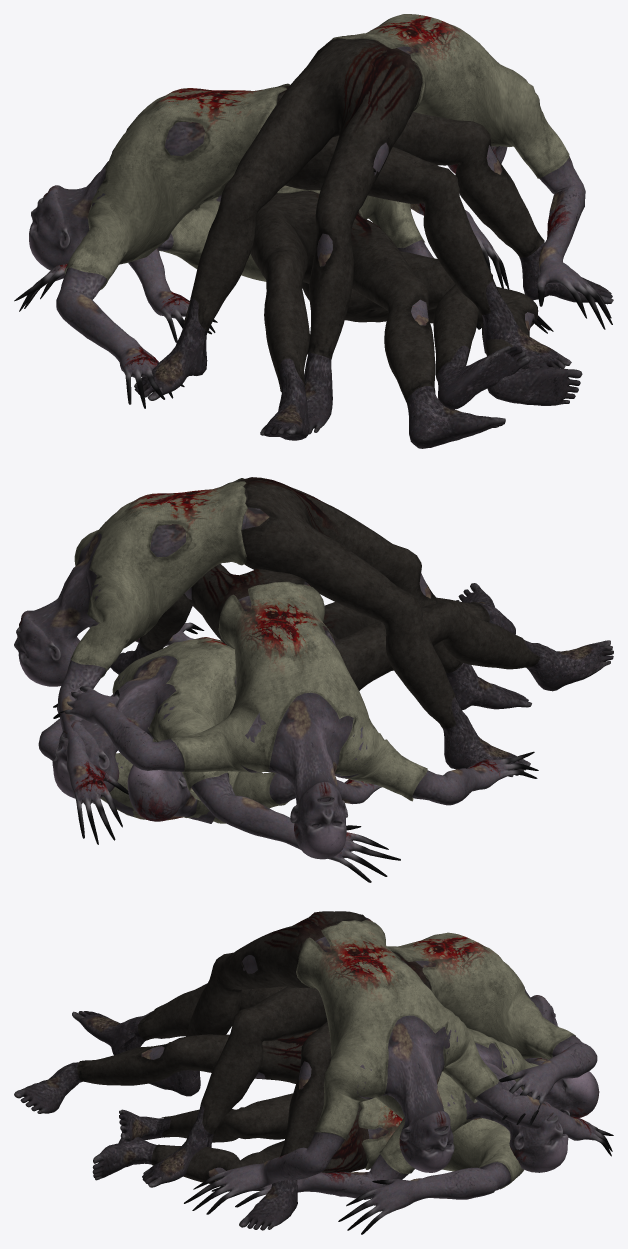
File: FourEnemyPile.fbx
The picture shows the model from 3 angles, top to bottom: view 1: azimuth 30°, elevation 25°; view 2: azimuth 150°, elevation 25°; view 3: azimuth 270°, elevation 25°; orthographic projection. The views are drawn at different scales.
Visible parts, largest first — view 1: EnemyPile5; view 2: EnemyPile5; view 3: EnemyPile5.
Boxes of the visible parts, x1,y1,x2,y2 form: EnemyPile5: [14, 14, 613, 448]; EnemyPile5: [14, 477, 613, 882]; EnemyPile5: [14, 911, 613, 1234].
Bounding box in the file's own units: 156 × 92.92 × 199.
